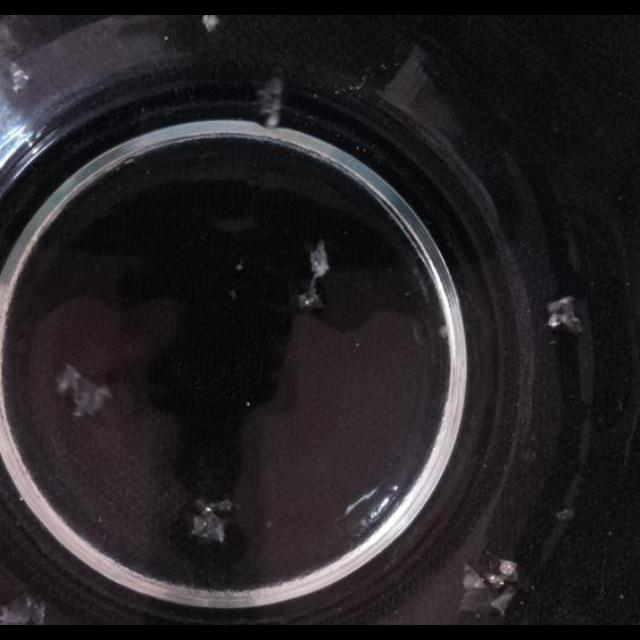Fibre: (456, 562, 522, 626), (56, 364, 114, 418), (296, 240, 332, 312), (188, 499, 234, 543), (3, 590, 47, 626), (256, 76, 286, 128), (546, 294, 584, 332), (10, 64, 30, 92), (554, 507, 574, 521), (438, 322, 450, 340)
microbeads: (202, 14, 220, 32), (228, 289, 238, 301), (264, 520, 274, 530), (236, 262, 244, 270), (244, 402, 250, 408)
